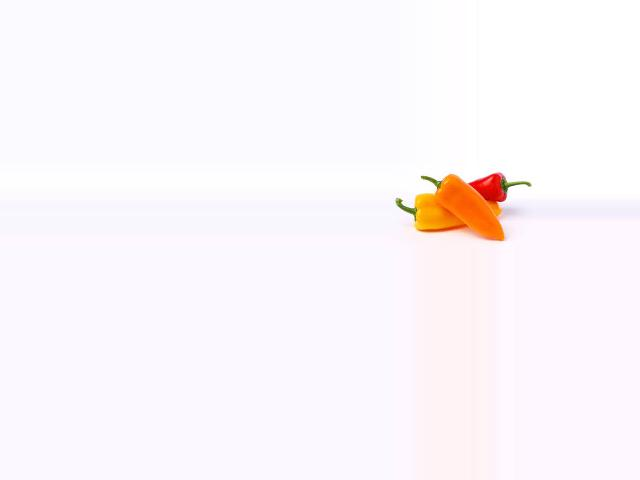bell_pepper: (392, 189, 474, 239)
